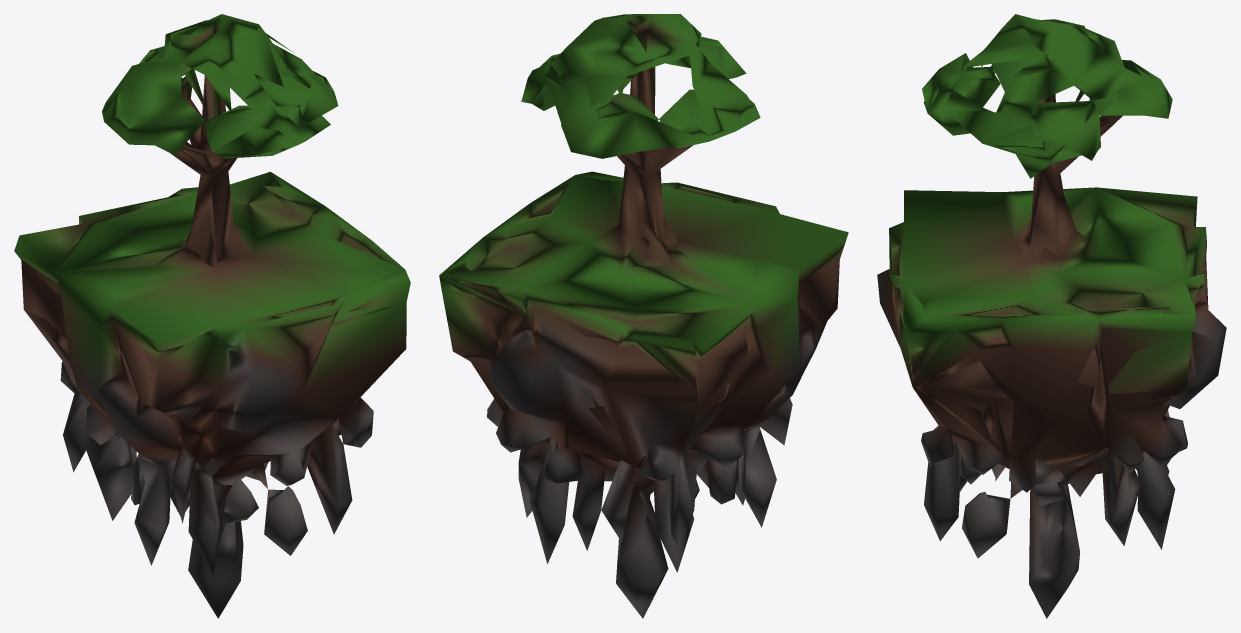
File: gen3d-floating-island-lod1.glb
The picture shows the model from 3 angles, left to right: view 1: azimuth 30°, elevation 25°; view 2: azimuth 150°, elevation 25°; view 3: azimuth 270°, elevation 25°; orthographic projection.
Visible parts, largest first — view 1: part_0; view 2: part_0; view 3: part_0.
Boxes of the visible parts, bbox=[...] form: part_0: bbox=[14, 14, 410, 618]; part_0: bbox=[439, 14, 848, 618]; part_0: bbox=[877, 14, 1226, 618].
Size of the model in its own units: 0.478 by 0.9864 by 0.5199.
